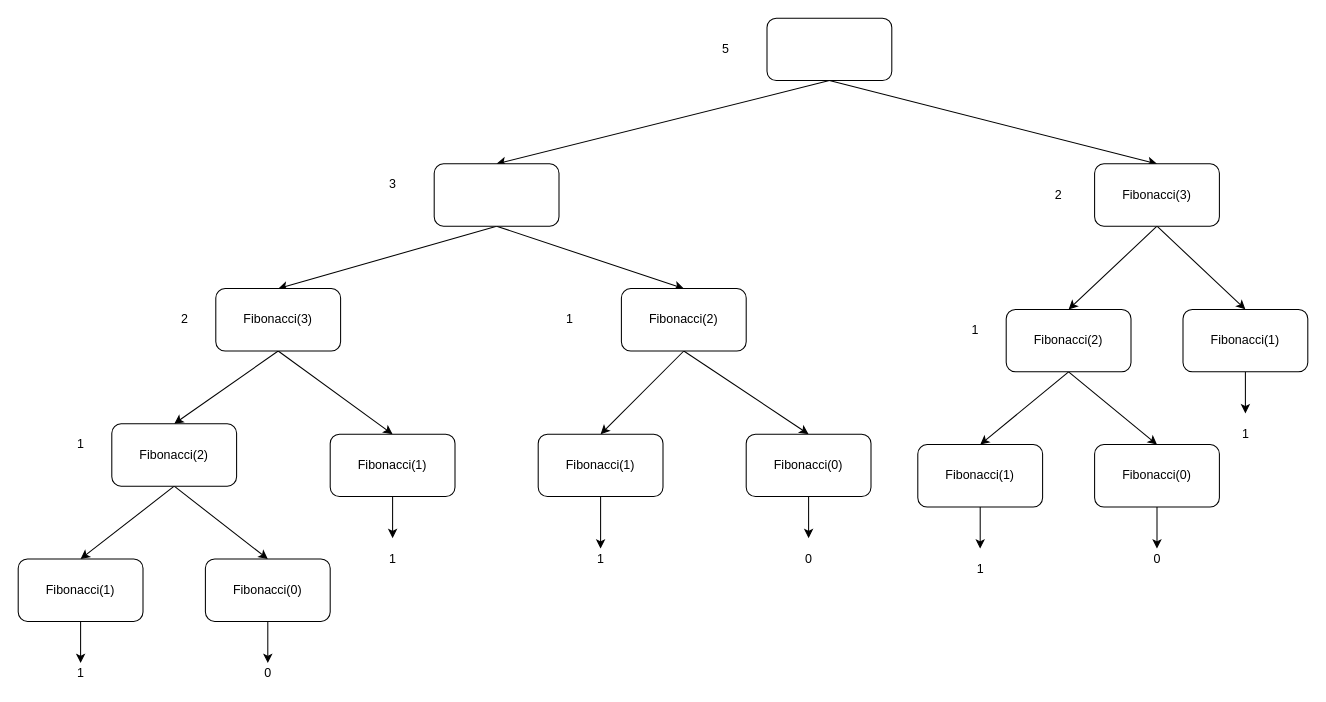
The diagram is 1326 pixels wide and 702 high, and some of its shapes have lost their labels. The shapes that lost their labels are listed below. From the top down, each one's centre as x and y in pixels, then its label:
At point (829, 49): "Fibonacci(5)".
At point (496, 194): "Fibonacci(4)".
